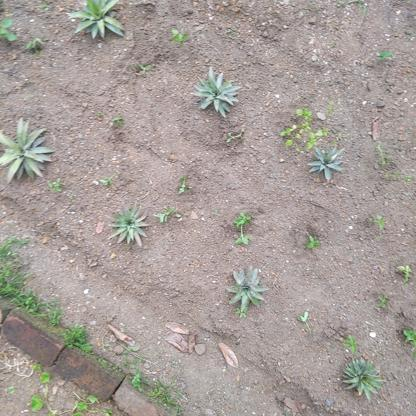pineapple: (1, 115, 56, 184), (192, 64, 241, 119), (63, 1, 129, 41), (227, 262, 271, 314), (109, 200, 154, 249), (340, 354, 384, 398), (304, 143, 349, 179)
weed: (280, 106, 330, 144), (1, 15, 46, 57), (229, 211, 254, 247), (295, 229, 328, 255), (154, 205, 186, 230), (392, 257, 416, 287)
